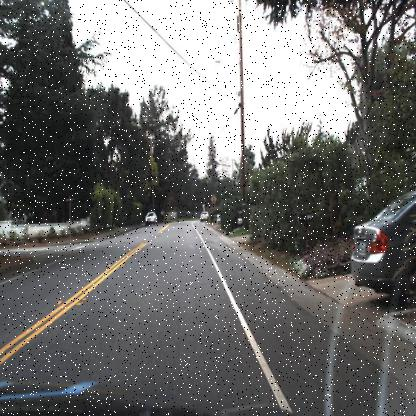car: (350, 186, 416, 319), (144, 209, 156, 227), (199, 209, 210, 222)
